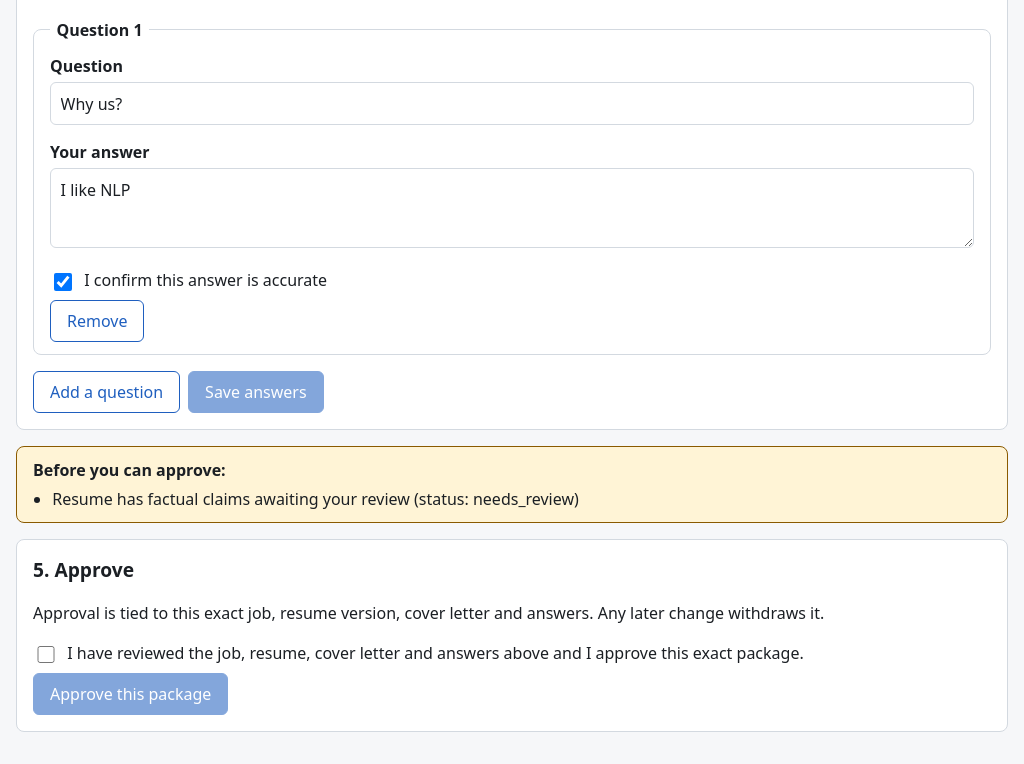
Test case: application review › shows backend blockers (e.g. unreviewed claims) and surfaces refusal on approve
(page scrolled)
Expected: the text "Before you can approve:" is shown, [33,459,226,481]
Expected: the list item "factual claims awaiting your review" is shown, [52,488,579,510]
Click the checkbox labelled "I have reviewed": (46, 654) [37,646,55,663]
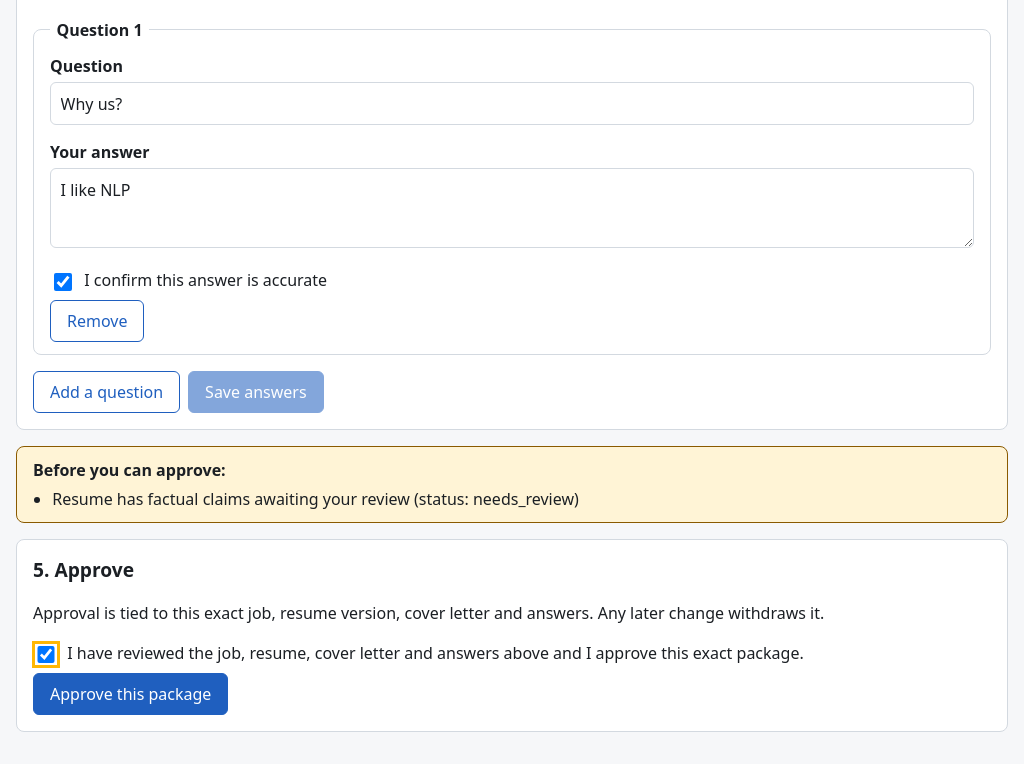
Click the button "Approve this package": (131, 694) [33,673,228,715]
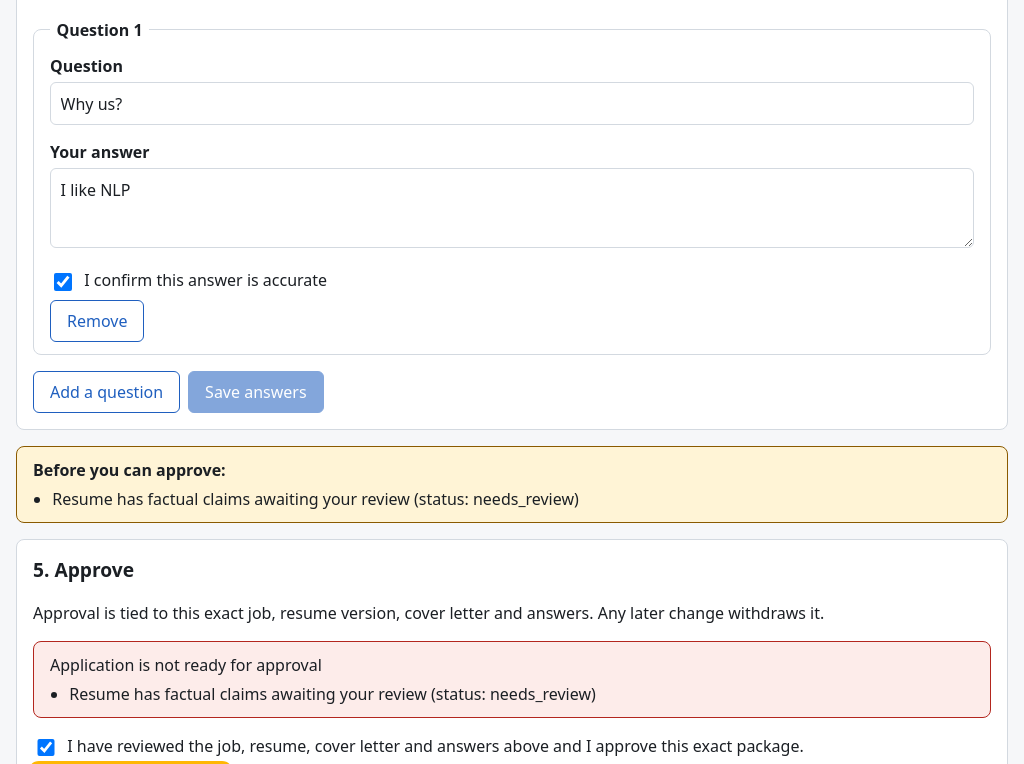
Expected: the text "Application is not ready for approval" is shown, [50,654,322,676]
